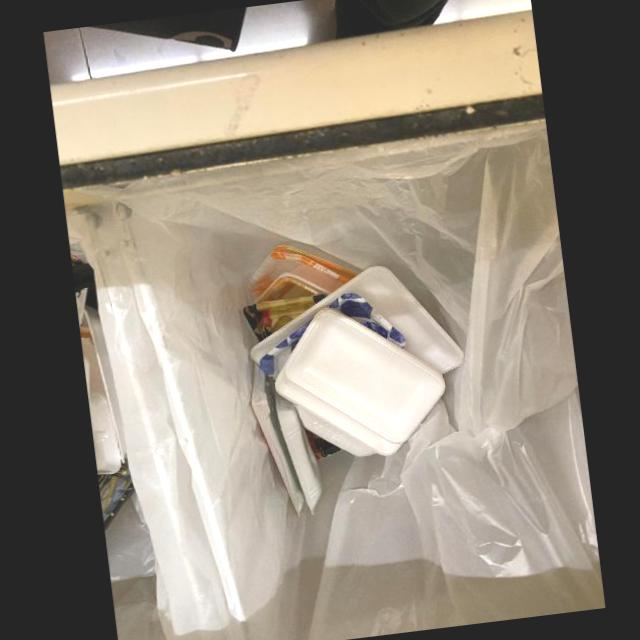xop: (249, 265, 464, 373), (284, 307, 445, 443), (273, 365, 403, 456), (275, 389, 321, 514)
